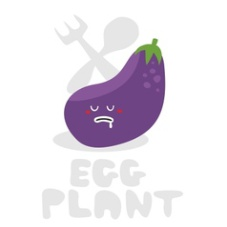eggplant: (64, 48, 166, 148)
